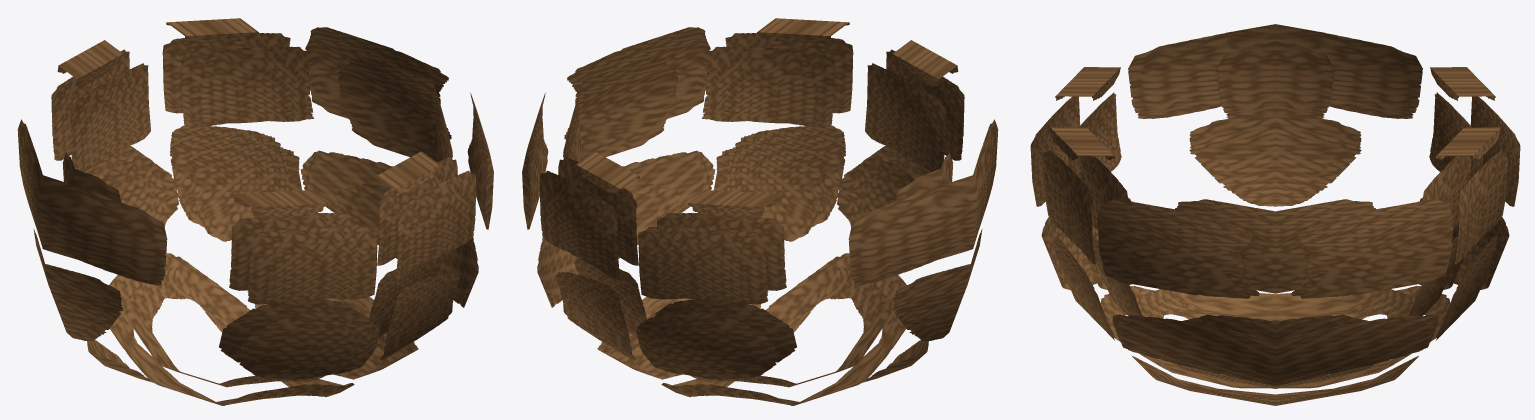
Rendered from Vaso2.fbx.
The picture shows the model from 3 angles, left to right: view 1: azimuth 30°, elevation 25°; view 2: azimuth 150°, elevation 25°; view 3: azimuth 270°, elevation 25°; orthographic projection.
Visible parts, largest first — view 1: Cylinder; view 2: Cylinder; view 3: Cylinder.
Boxes of the visible parts, x1,y1,x2,y2 form: Cylinder: [17, 18, 493, 405]; Cylinder: [522, 18, 998, 405]; Cylinder: [1030, 24, 1520, 405].
Size of the model in its own units: 327 by 189 by 327.
